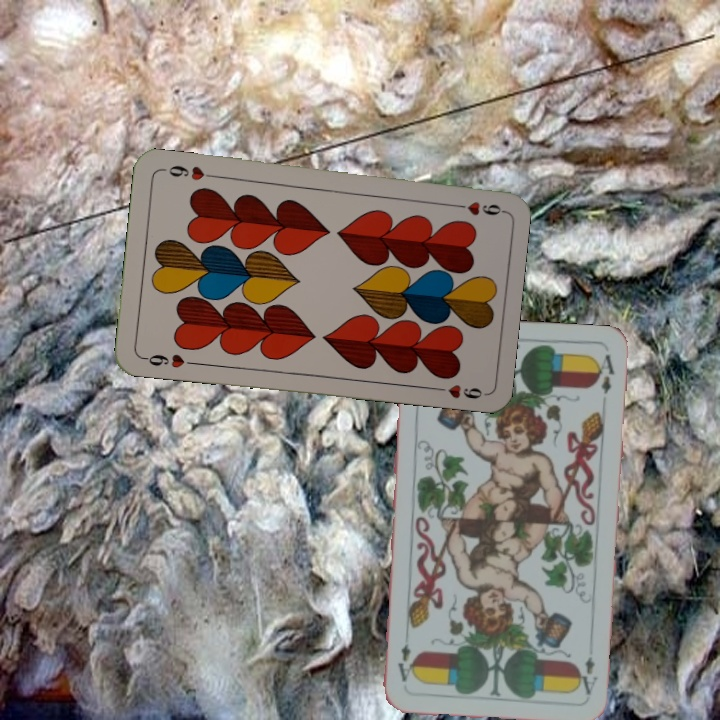EA: (573, 653, 600, 697)
H9: (138, 350, 197, 371), (446, 198, 505, 218)
